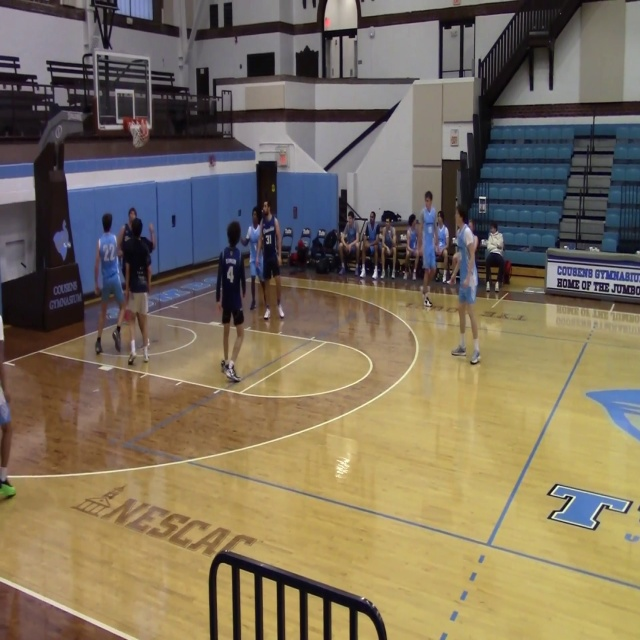Basketball: (130, 121, 149, 148)
